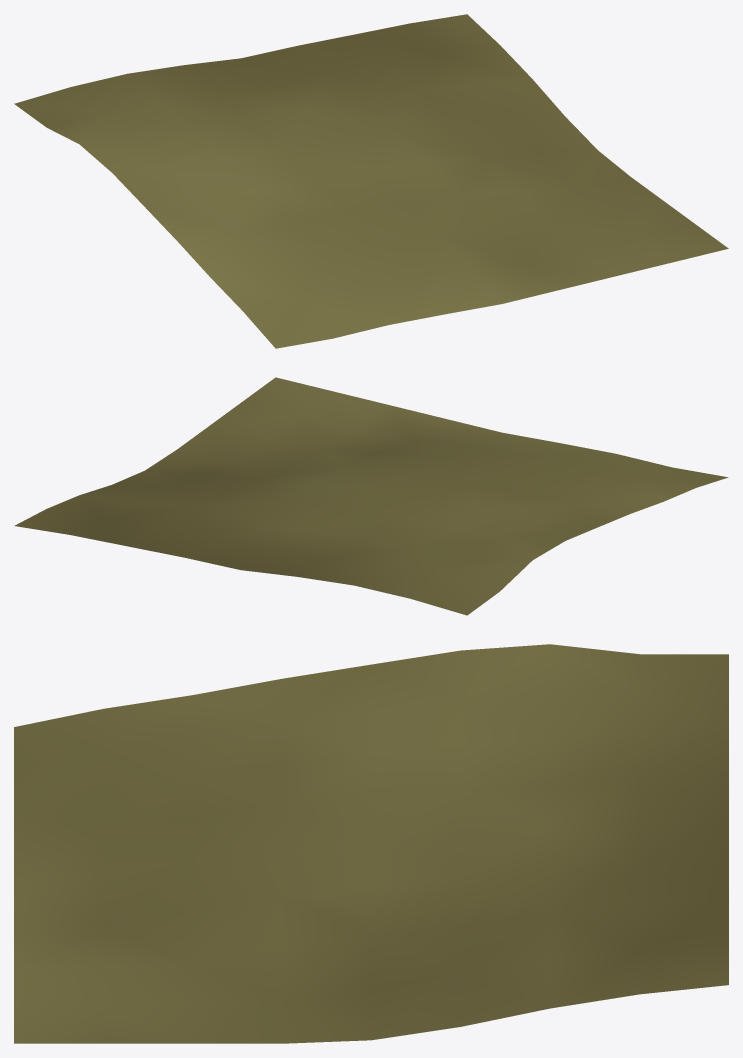
File: terrain_lod2_1_1.obj
3 views of the same model, one above another, from view 1: azimuth 30°, elevation 25°; view 2: azimuth 150°, elevation 25°; view 3: azimuth 270°, elevation 25° (orthographic). The views are drawn at different scales.
Parts seen in each view (by area): view 1: terrain_lod2_1_1; view 2: terrain_lod2_1_1; view 3: terrain_lod2_1_1.
Part boxes in pixels (x1,y1,x2,y2): terrain_lod2_1_1: [14, 14, 728, 348]; terrain_lod2_1_1: [14, 377, 728, 615]; terrain_lod2_1_1: [14, 644, 728, 1043].
Bounding box in the file's own units: 64 × 9.62 × 64.
